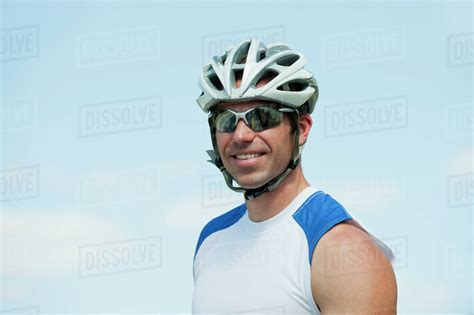com_capacete_bicicleta: (195, 37, 320, 201)
